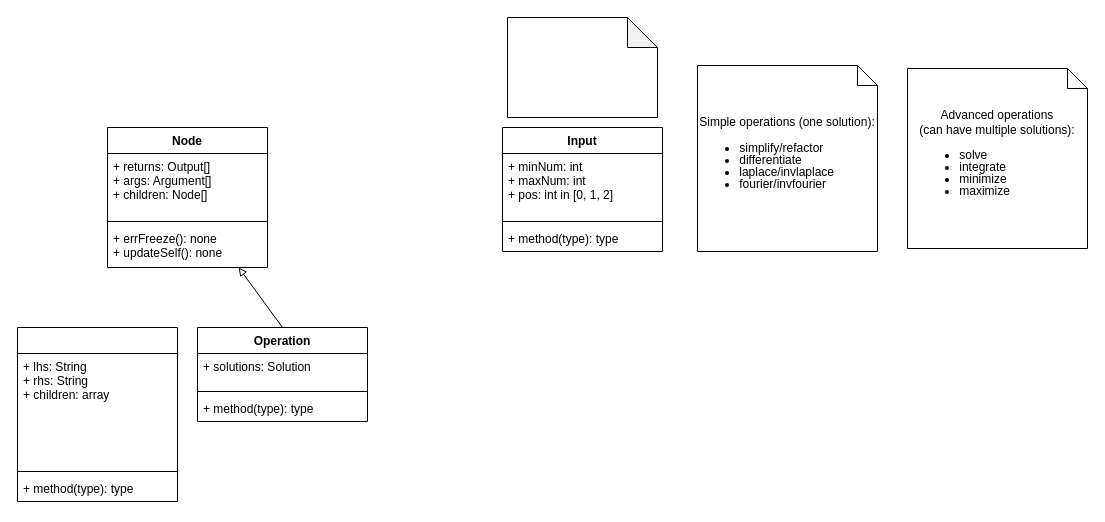
Image size: 1105x522. Some labels were removed from this diagram. Each missing label, with the box of its shape:
if maxNum is null, then an infinite number of that input is allowed: (506, 16, 658, 118)
InputEqn: (16, 326, 178, 502)
